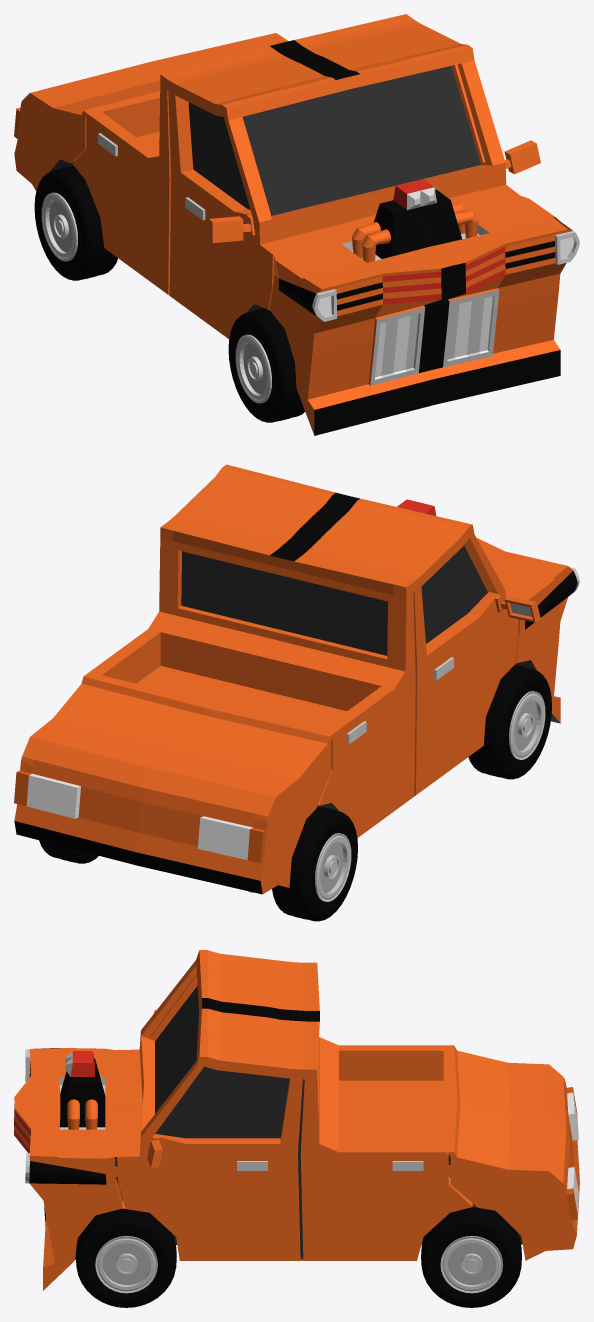
3 views of the same model, one above another, from view 1: azimuth 30°, elevation 25°; view 2: azimuth 150°, elevation 25°; view 3: azimuth 270°, elevation 25° (orthographic). The views are drawn at different scales.
Parts seen in each view (by area): view 1: BODY43A, WHEEL.004, WHEEL.001; view 2: BODY43A, WHEEL.004, WHEEL.001, WHEEL.002; view 3: BODY43A, WHEEL.002, WHEEL.003.
Part boxes in pixels (x1,y1,x2,y2): BODY43A: [14, 14, 579, 435]; WHEEL.004: [34, 165, 117, 280]; WHEEL.001: [228, 308, 304, 422]; BODY43A: [14, 464, 579, 894]; WHEEL.004: [272, 806, 357, 921]; WHEEL.001: [468, 665, 551, 779]; WHEEL.002: [39, 840, 98, 863]; BODY43A: [14, 950, 579, 1290]; WHEEL.002: [421, 1207, 521, 1307]; WHEEL.003: [76, 1208, 176, 1307].
Bounding box in the file's own units: 131 × 106 × 219.
